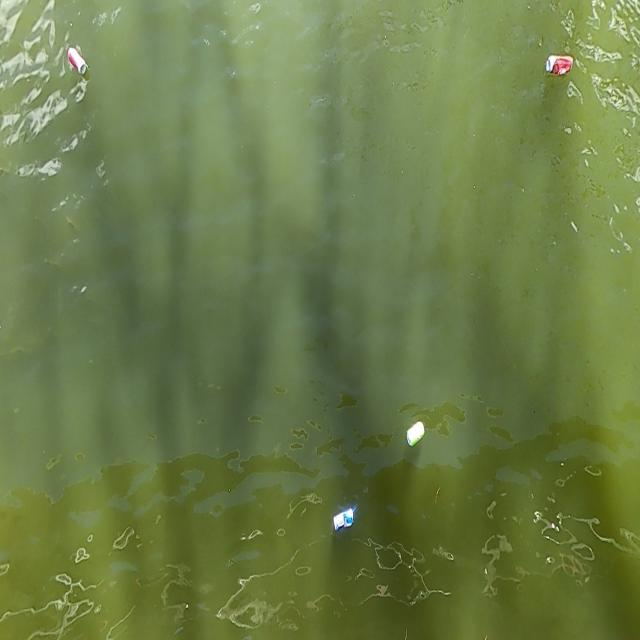Non plastique: (540, 48, 574, 83), (65, 43, 92, 85), (401, 414, 430, 452), (330, 507, 360, 539)
